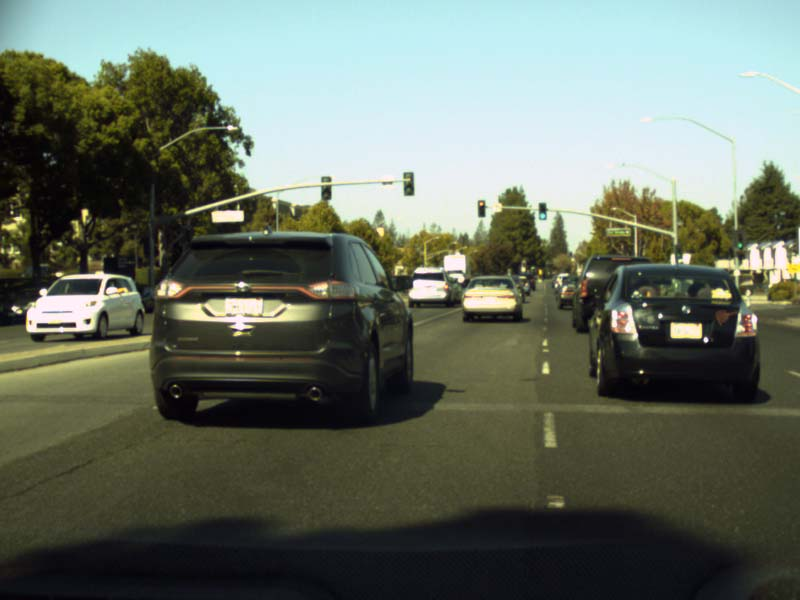Green: (538, 202, 545, 219), (737, 234, 744, 249), (675, 246, 681, 259)
Red: (478, 200, 484, 216)
